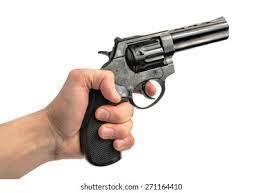gun: (83, 16, 231, 167)
